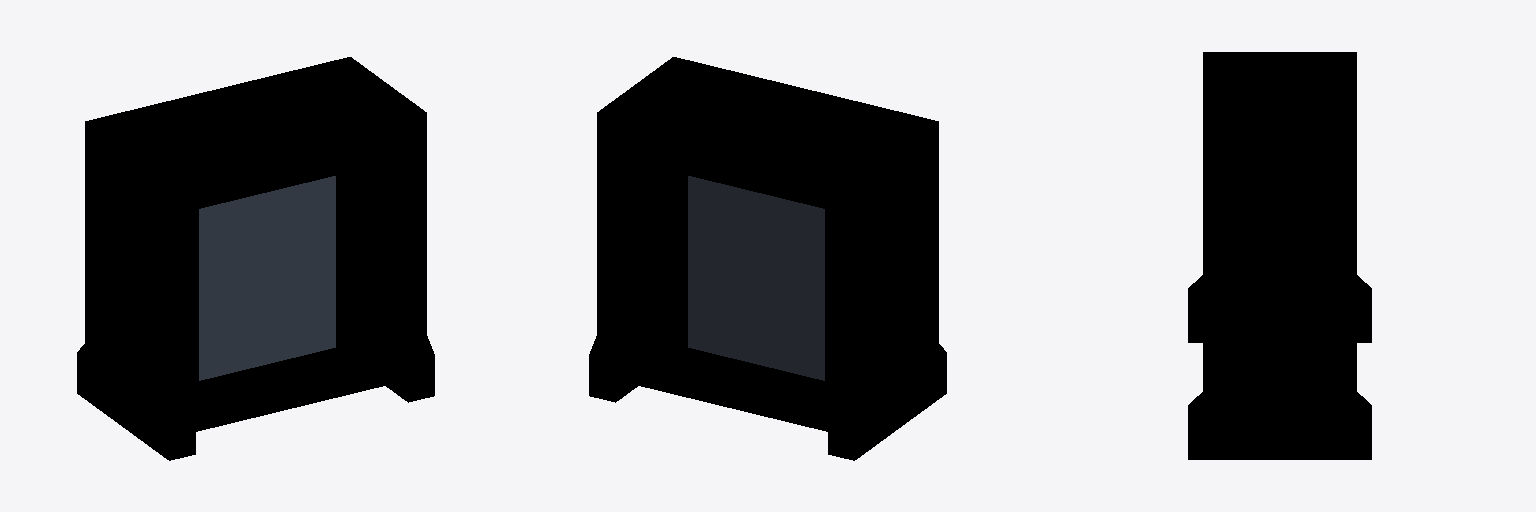
The model's file is wall-window.obj.
3 renders of one model, left to right at view 1: azimuth 30°, elevation 25°; view 2: azimuth 150°, elevation 25°; view 3: azimuth 270°, elevation 25°, orthographic.
Visible parts, largest first — view 1: wall-window, (%ignore); view 2: wall-window, (%ignore); view 3: wall-window.
Boxes of the visible parts, box(x1,y1,x2,y2) form: wall-window: box(77, 57, 434, 460); (%ignore): box(199, 176, 335, 380); wall-window: box(589, 57, 946, 460); (%ignore): box(688, 176, 824, 380); wall-window: box(1188, 52, 1371, 459).
Bounding box in the file's own units: 1 × 1 × 0.6.